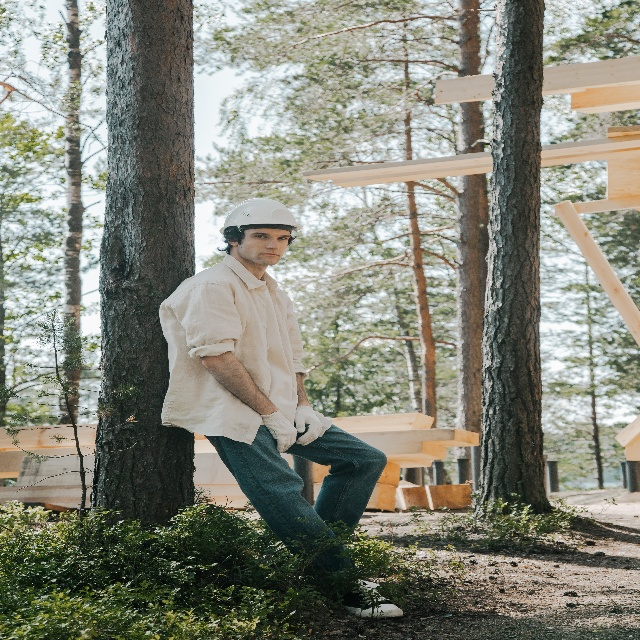Guantes: (260, 410, 298, 453), (295, 405, 323, 447)
